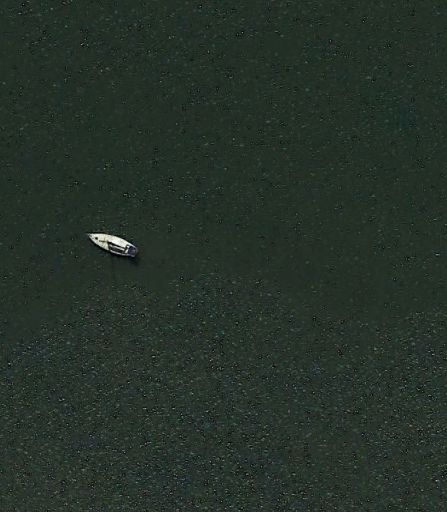boat: (86, 232, 140, 260)
